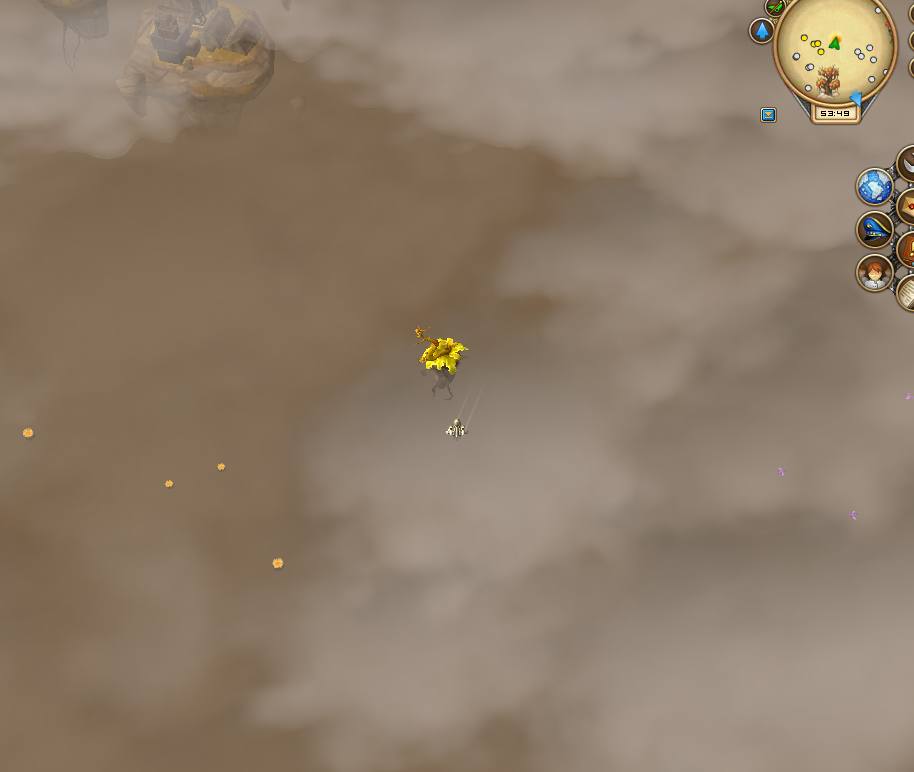dandelion-empty: (410, 317, 468, 401)
fluff: (264, 552, 287, 575), (14, 423, 38, 443), (210, 456, 229, 476), (159, 474, 177, 493)
